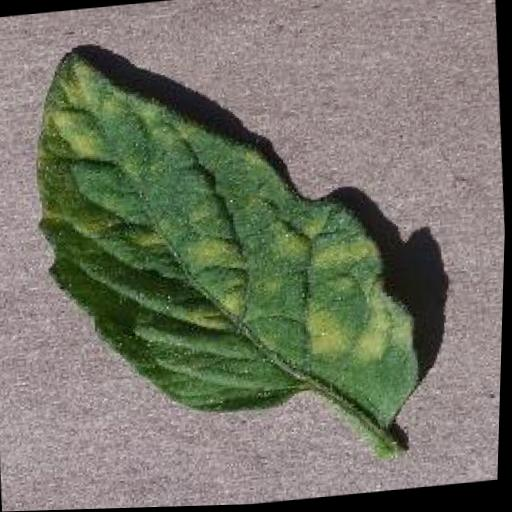Leaf Mold: (19, 20, 435, 464)
